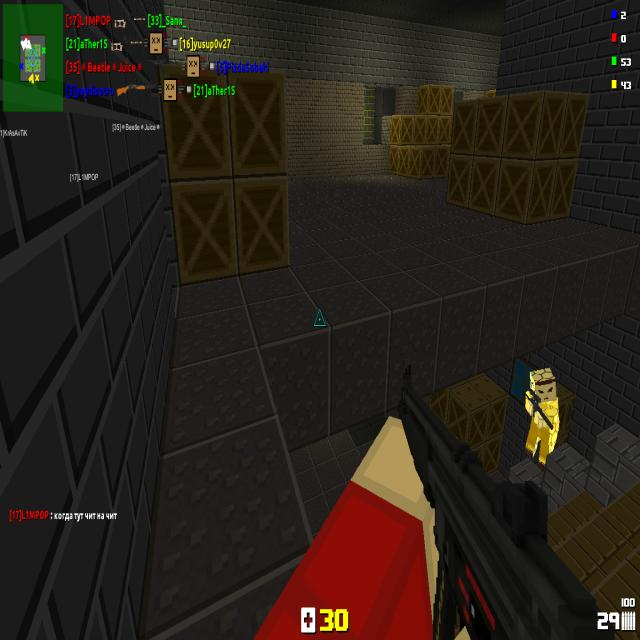enemy: (525, 365, 560, 471)
